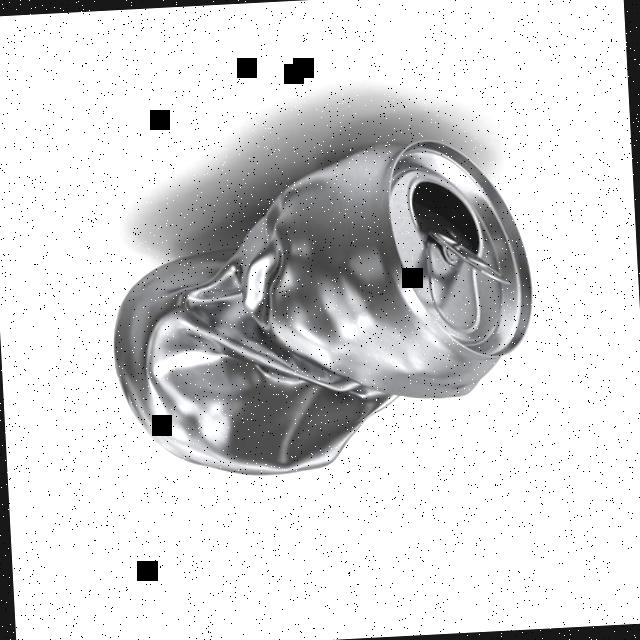can: (100, 134, 543, 486)
